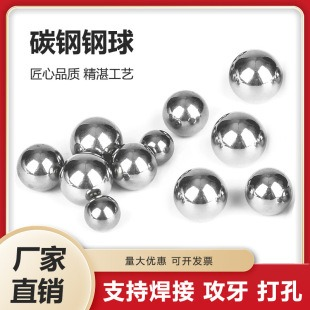ironball: (210, 111, 266, 166), (228, 48, 282, 103), (173, 167, 227, 221), (59, 152, 112, 205), (69, 116, 122, 163), (244, 167, 293, 216), (16, 143, 64, 191), (110, 142, 157, 190), (162, 89, 208, 137), (83, 194, 120, 231), (140, 129, 174, 165)
